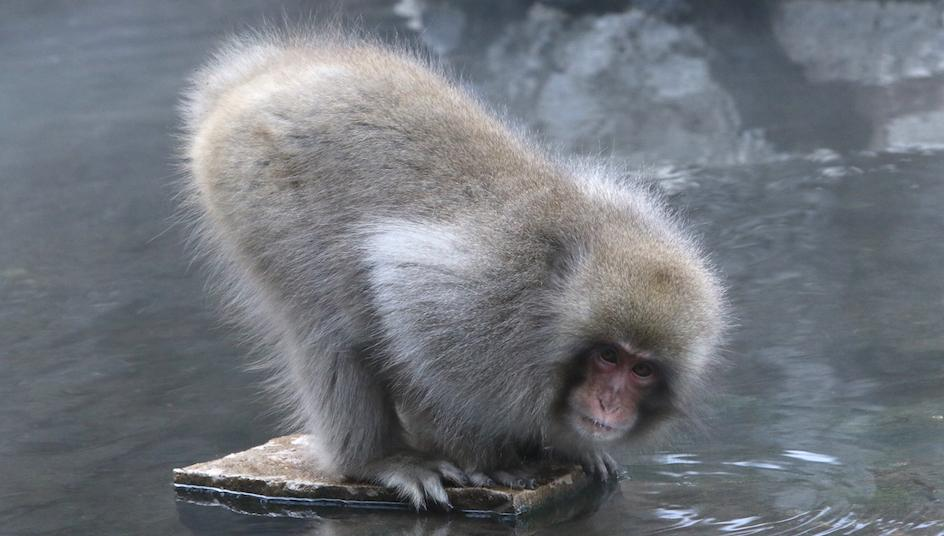monkey: (177, 28, 700, 534)
